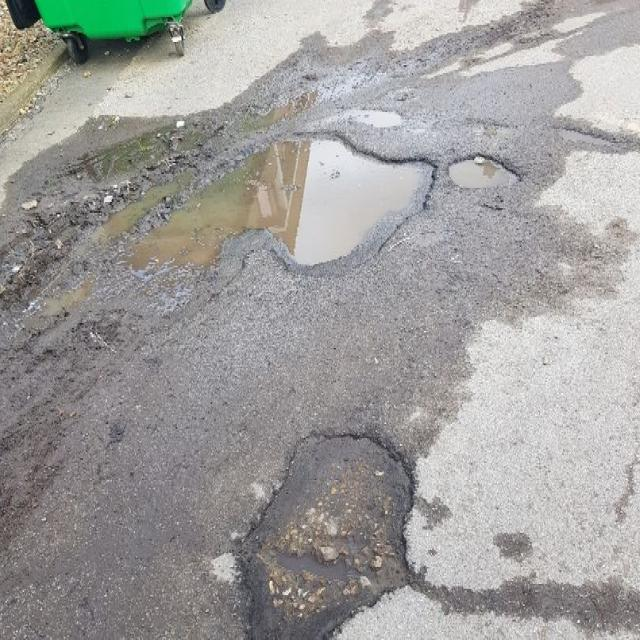pothole: (104, 115, 438, 283), (230, 412, 428, 638), (448, 140, 526, 200)
